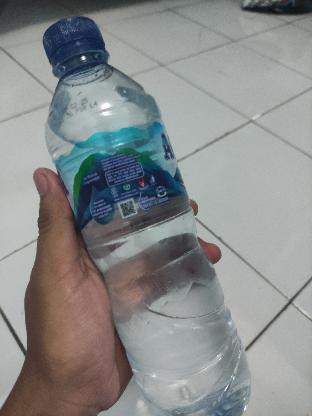Plastic Bottle: (40, 15, 254, 416)
